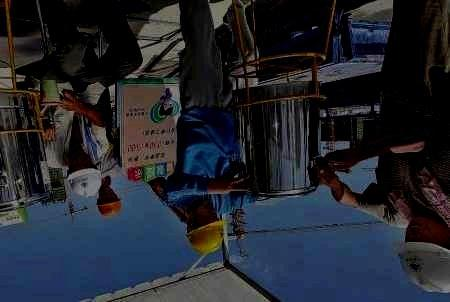helmet: (396, 205, 450, 294), (185, 202, 227, 256), (66, 148, 102, 199), (96, 186, 122, 219)
